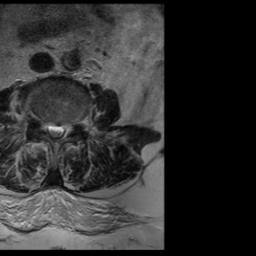CCS_stenosis: (53, 115, 59, 147)
LFS_normal: (69, 111, 77, 139)
LLS_normal: (59, 115, 69, 144)
RFS_normal: (36, 110, 45, 138)
RLS_normal: (45, 115, 53, 141)
